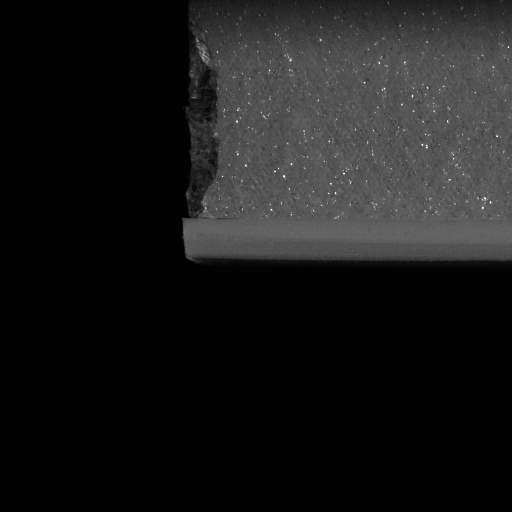bengque: (177, 33, 223, 223)
